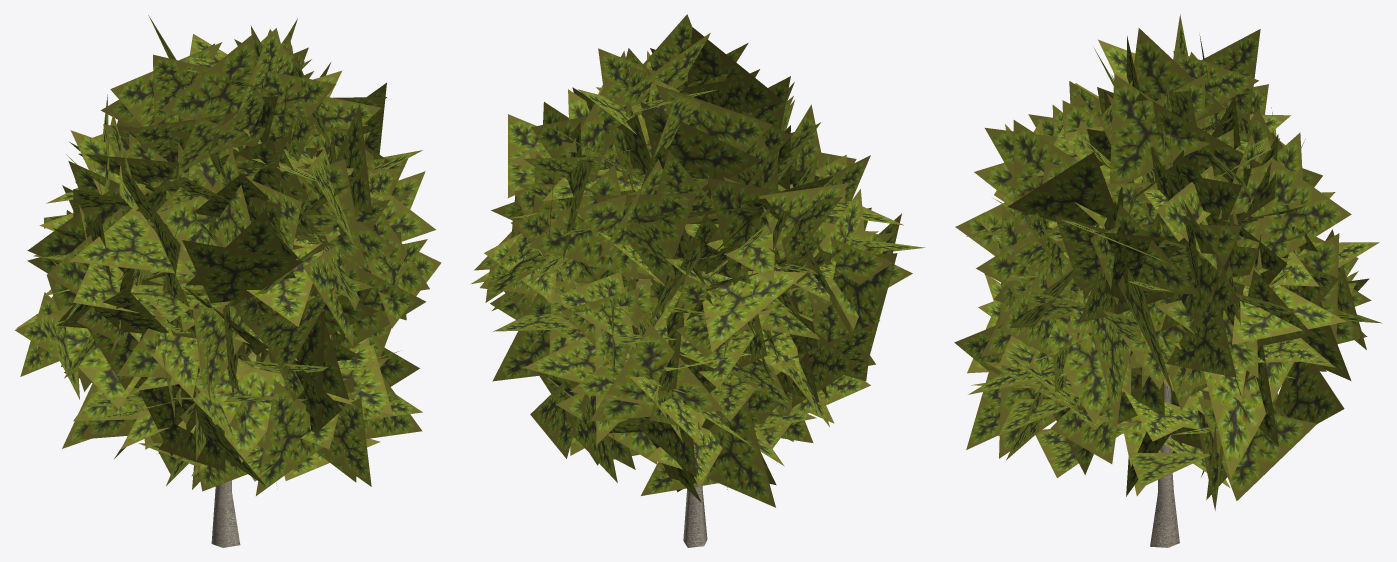
The model's file is Alnus_Rubra_Spring_Young.glb.
3 views of the same model, side by side, from view 1: azimuth 30°, elevation 25°; view 2: azimuth 150°, elevation 25°; view 3: azimuth 270°, elevation 25° (orthographic). The views are drawn at different scales.
Parts seen in each view (by area): view 1: Alnus_Rubra_Spring_Young__LOD3; view 2: Alnus_Rubra_Spring_Young__LOD3; view 3: Alnus_Rubra_Spring_Young__LOD3.
Part boxes in pixels (left/top/right/bottom): Alnus_Rubra_Spring_Young__LOD3: left=15, top=15, right=441, bottom=547; Alnus_Rubra_Spring_Young__LOD3: left=470, top=14, right=925, bottom=547; Alnus_Rubra_Spring_Young__LOD3: left=954, top=14, right=1381, bottom=547.
Bounding box in the file's own units: 9.37 × 12.13 × 9.04.
2 materials, 2 textured.
